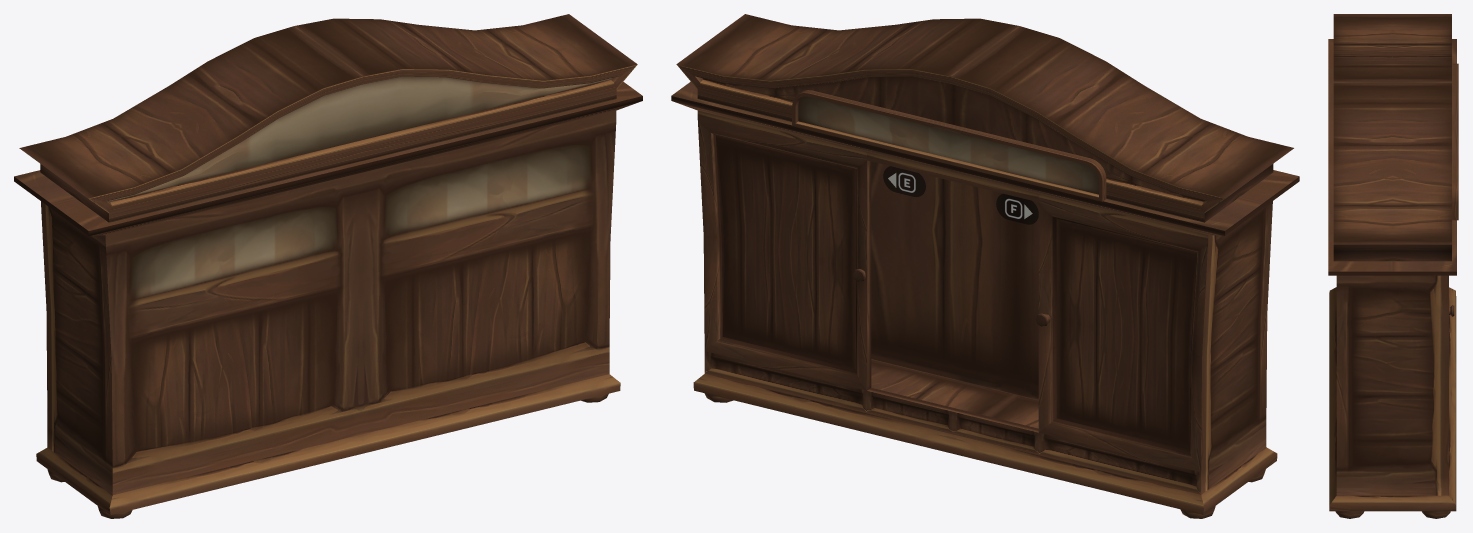
The model's file is wardrobe.glb.
3 renders of one model, left to right at view 1: azimuth 30°, elevation 25°; view 2: azimuth 150°, elevation 25°; view 3: azimuth 270°, elevation 25°, orthographic. The views are drawn at different scales.
Parts seen in each view (by area): view 1: wardrobe_new; view 2: wardrobe_new, Cylinder.006; view 3: wardrobe_new.
Part boxes in pixels (x1,y1,x2,y2): wardrobe_new: (14,14,642,518); wardrobe_new: (671,14,1299,518); Cylinder.006: (883,166,1038,224); wardrobe_new: (1328,14,1458,518).
Size of what is drawn, in the model's own units: 5.23 by 3.47 by 1.24.
Materials: 4 (3 with a texture image).
